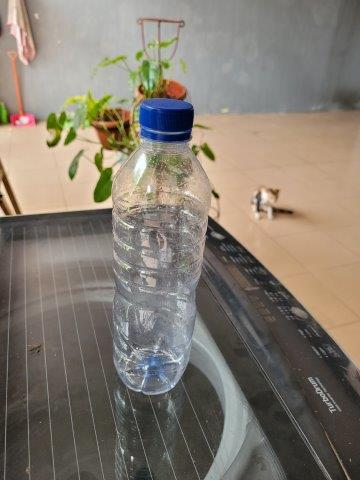botolplastik: (110, 101, 212, 393)
